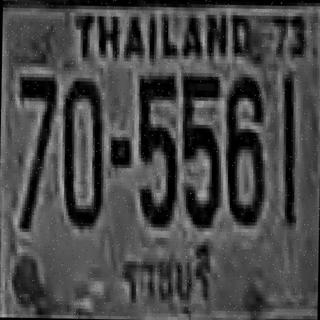N00: (61, 78, 103, 226)
N01: (280, 71, 296, 222)
N05: (135, 72, 177, 224), (178, 73, 220, 225)
N06: (222, 74, 264, 222)
N07: (15, 73, 54, 228)
P52: (116, 242, 215, 320)
